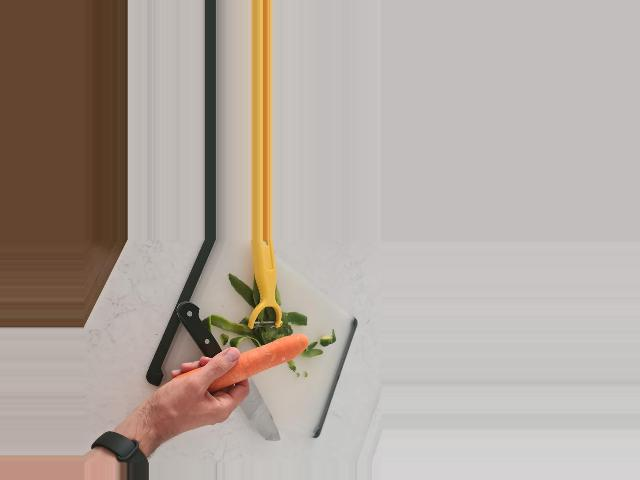carrot: (167, 334, 307, 393)
